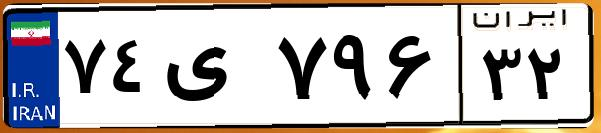2: (525, 38, 570, 115)
3: (475, 38, 525, 113)
4: (110, 28, 158, 98)
6: (385, 28, 445, 110)
7: (270, 28, 330, 110), (57, 26, 110, 100)
9: (330, 28, 385, 110)
ی: (158, 20, 270, 120)
